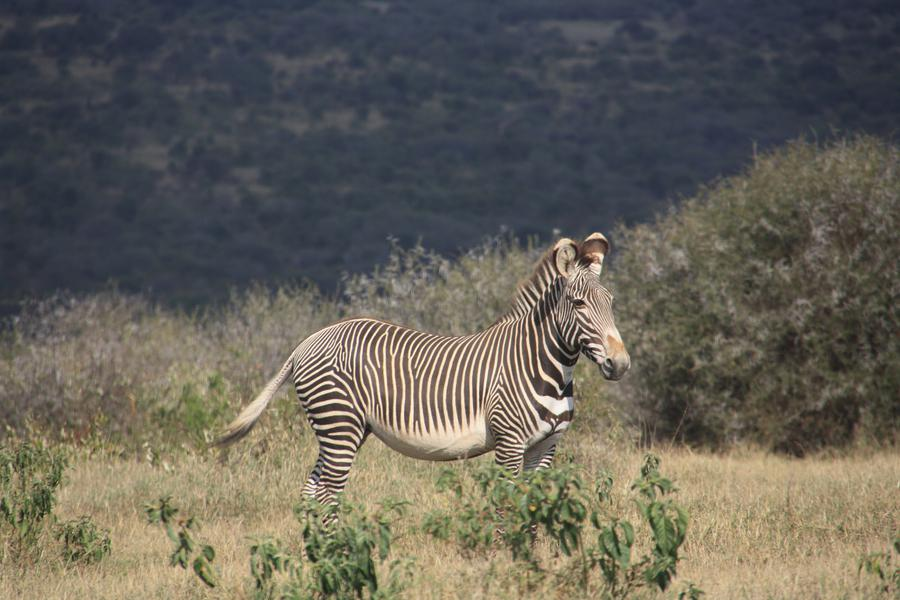zebra_grevys: (289, 303, 545, 440)
